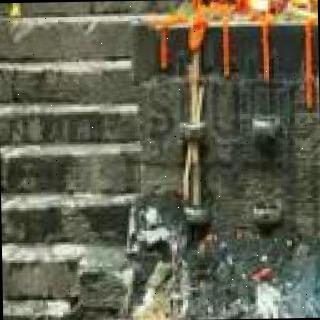fire: (237, 0, 317, 15)
